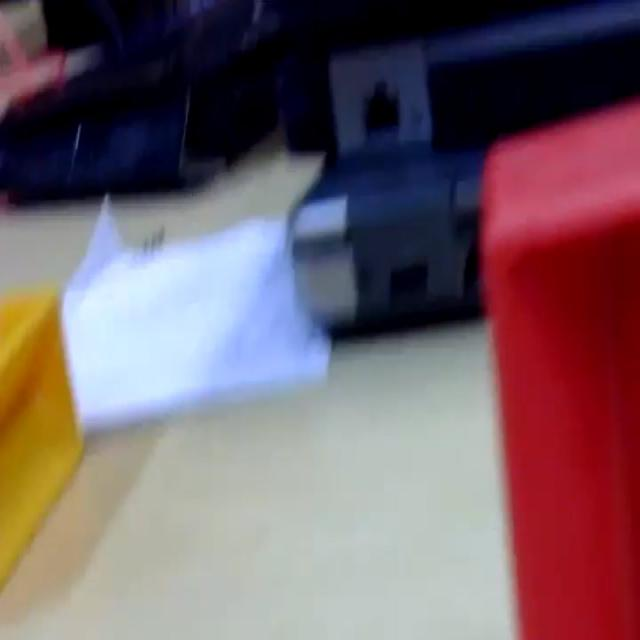red_block: (477, 95, 639, 636)
yellow_block: (0, 283, 85, 589)
